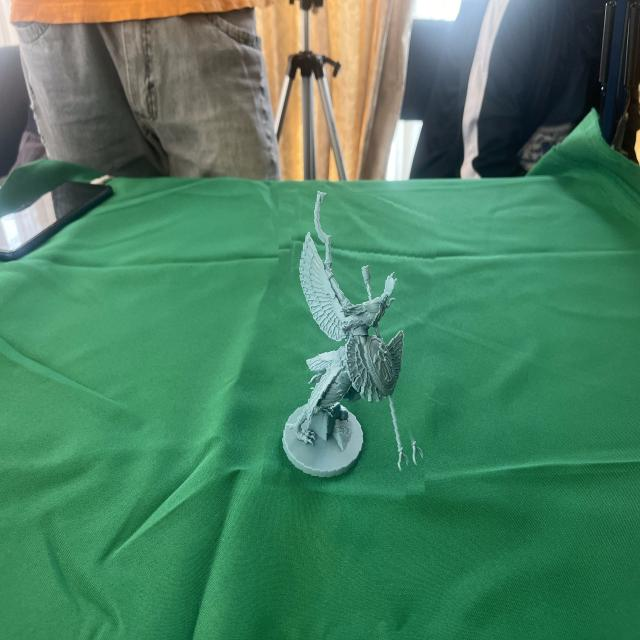isis: (270, 189, 434, 499)
